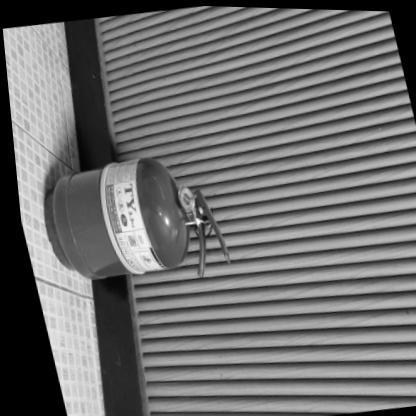FE: (26, 145, 228, 293)
